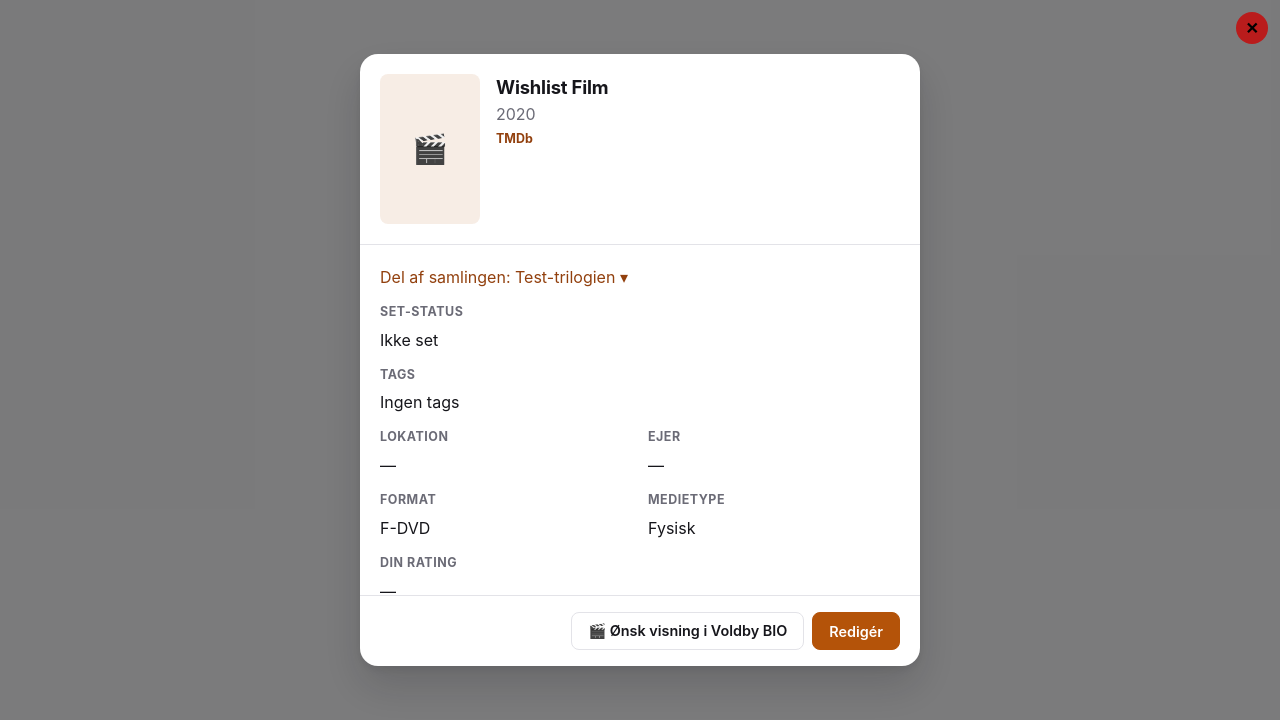
Scenario: CollectionSection — viser medietype for ejede dele (feature #201) › viser '✓ Ejer (Fysisk)'/'✓ Ejer (Digital)' i stedet for bare '✓ Ejer' når backend oplyser medietypen
Click the button "Del af samlingen: Test-trilogien ▾": (504, 277) [380, 265, 628, 289]
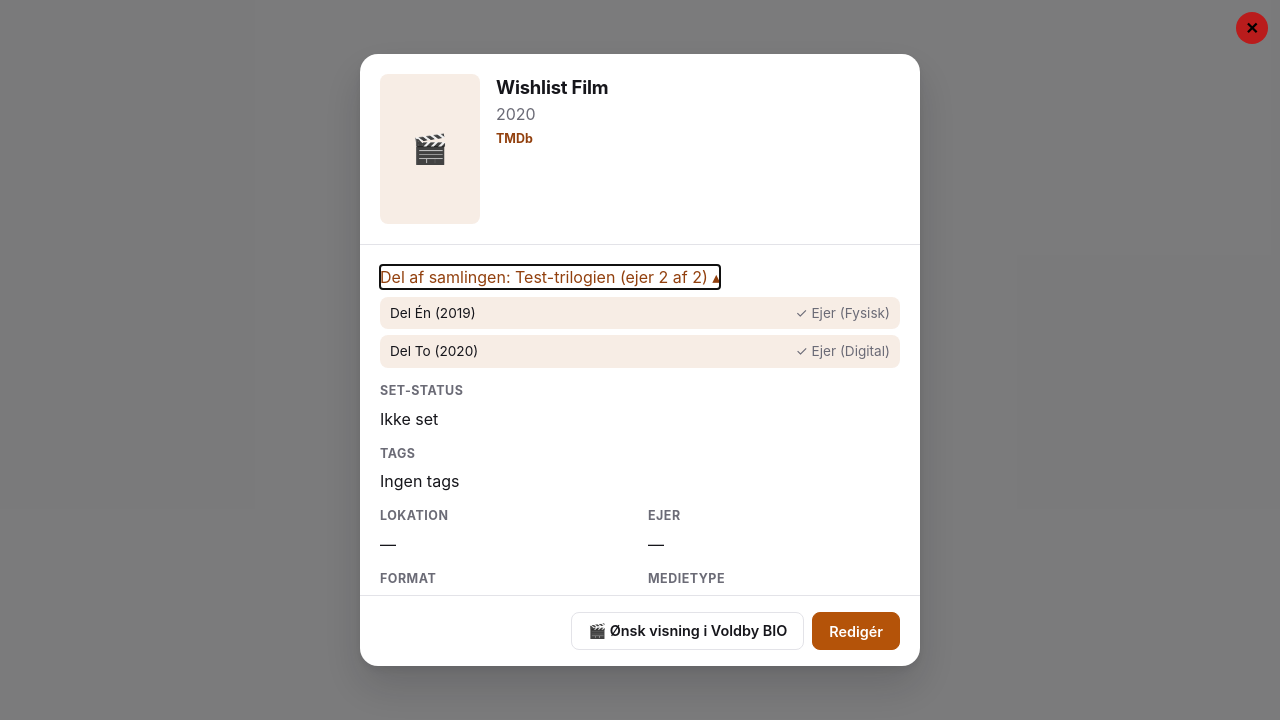
Now the text "✓ Ejer (Fysisk)" is shown, box [796, 303, 890, 323]
Now the text "✓ Ejer (Digital)" is shown, box [796, 341, 890, 362]
